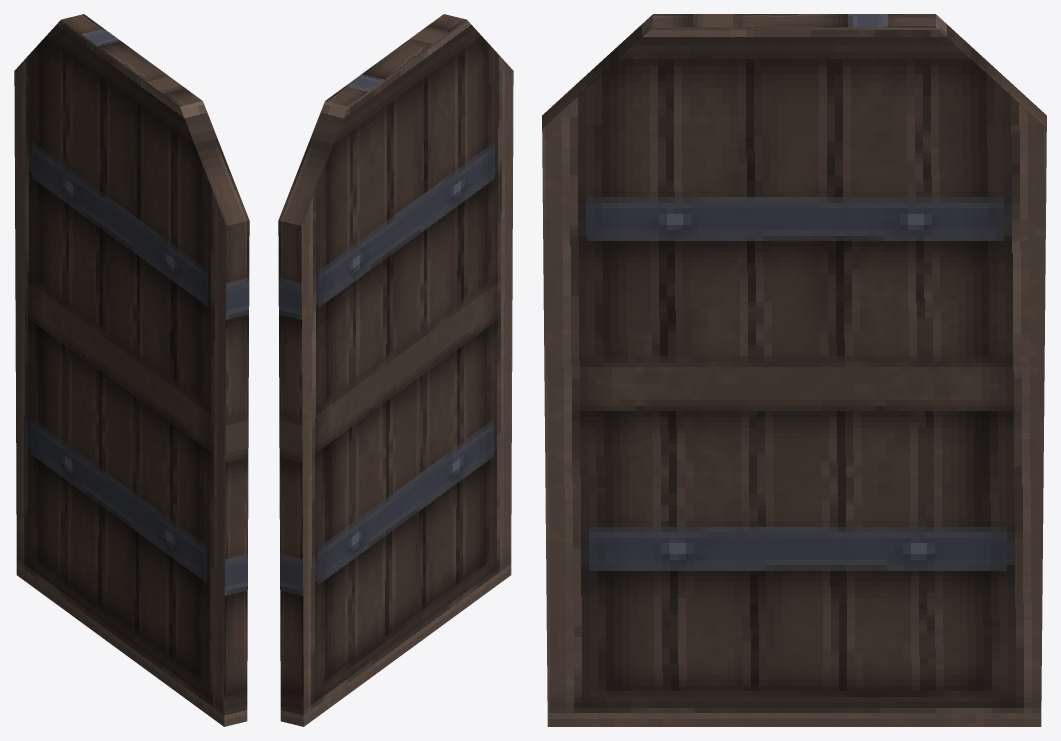
The model's file is DungeonTilesDoorBreakable.glb.
3 renders of one model, left to right at view 1: azimuth 30°, elevation 25°; view 2: azimuth 150°, elevation 25°; view 3: azimuth 270°, elevation 25°, orthographic. The views are drawn at different scales.
Visible parts, largest first — view 1: Cube.003; view 2: Cube.003; view 3: Cube.003.
Part boxes in pixels (left/top/right/bottom): Cube.003: left=14, top=14, right=249, bottom=726; Cube.003: left=278, top=14, right=513, bottom=726; Cube.003: left=542, top=14, right=1046, bottom=726.
Size of the model in its own units: 0.0907 by 2.21 by 1.45.
Materials: 1 (1 with a texture image).
